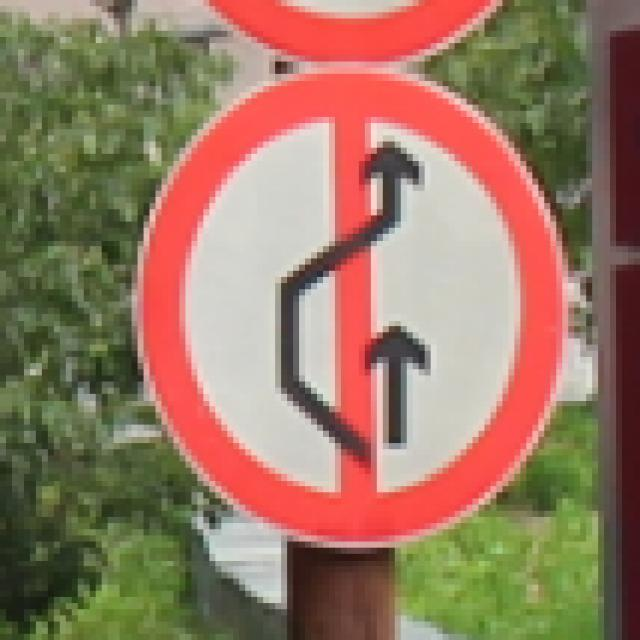Not that Direction: (139, 70, 563, 557)
